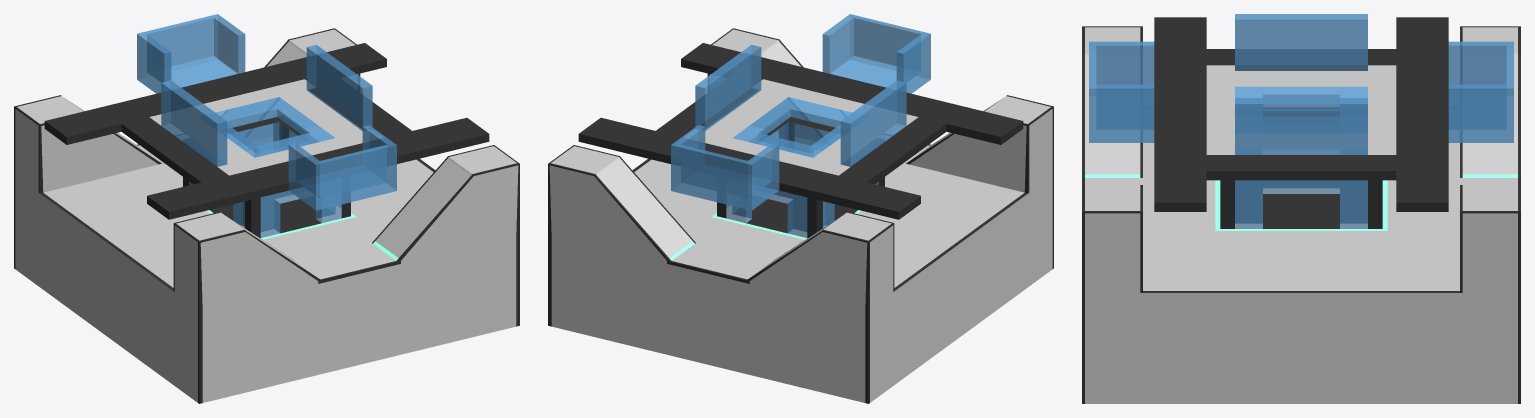
File: StatueStage.fbx
3 renders of one model, left to right at view 1: azimuth 30°, elevation 25°; view 2: azimuth 150°, elevation 25°; view 3: azimuth 270°, elevation 25°, orthographic. The views are drawn at different scales.
Visible parts, largest first — view 1: Base_1F, Base_2F; view 2: Base_1F, Base_2F; view 3: Base_1F, Base_2F.
Part boxes in pixels (left/top/right/bottom): Base_1F: left=14, top=28, right=519, bottom=403; Base_2F: left=44, top=14, right=489, bottom=219; Base_1F: left=548, top=28, right=1053, bottom=403; Base_2F: left=578, top=14, right=1023, bottom=219; Base_1F: left=1082, top=26, right=1520, bottom=403; Base_2F: left=1089, top=14, right=1513, bottom=211.
Bounding box in the file's own units: 10000 × 6344 × 10000.
